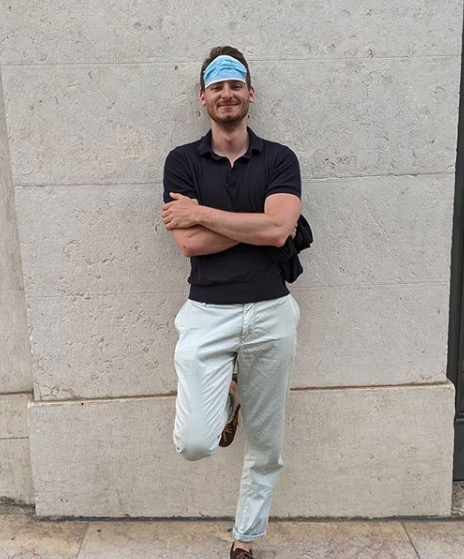mask_weared_incorrect: (201, 63, 252, 120)
